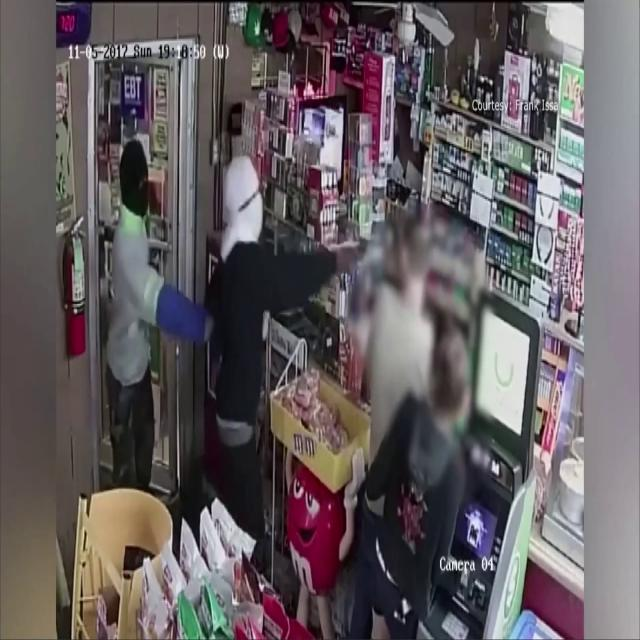Gun: (350, 235, 384, 280)
